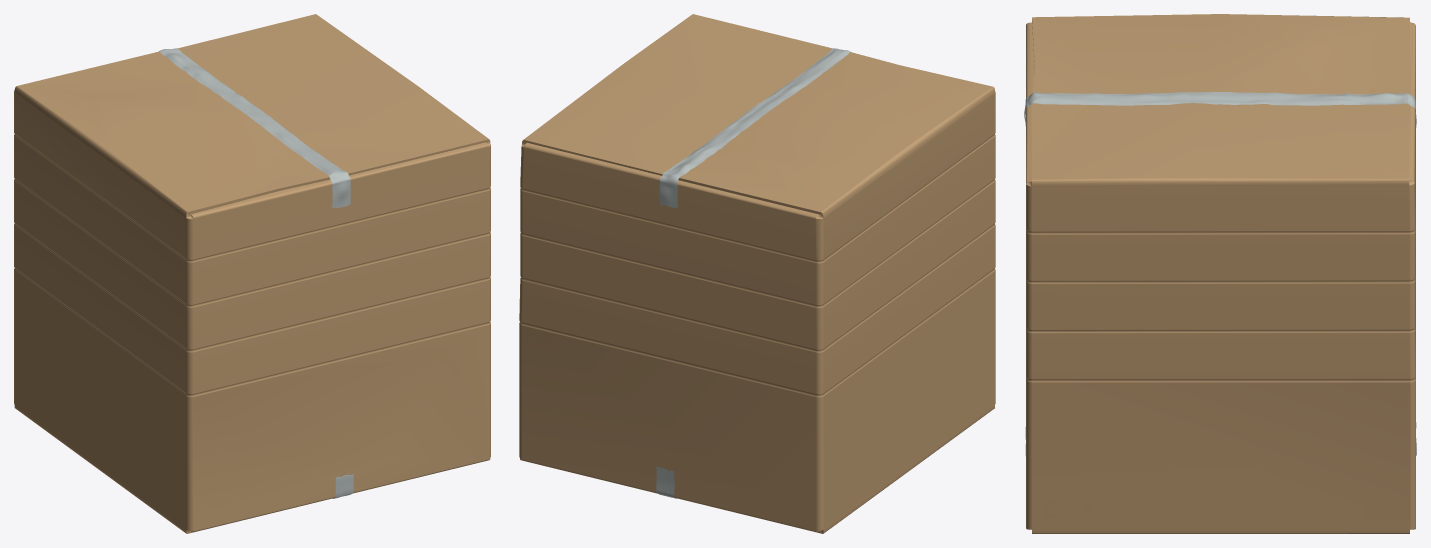
The model's file is box_multiDepth_a09.glb.
3 renders of one model, left to right at view 1: azimuth 30°, elevation 25°; view 2: azimuth 150°, elevation 25°; view 3: azimuth 270°, elevation 25°, orthographic. The views are drawn at different scales.
Size of the model in its own units: 0.4051 by 0.4163 by 0.4105.
